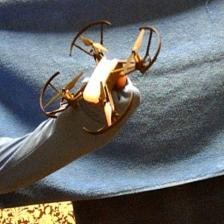drone: (38, 18, 163, 140)
